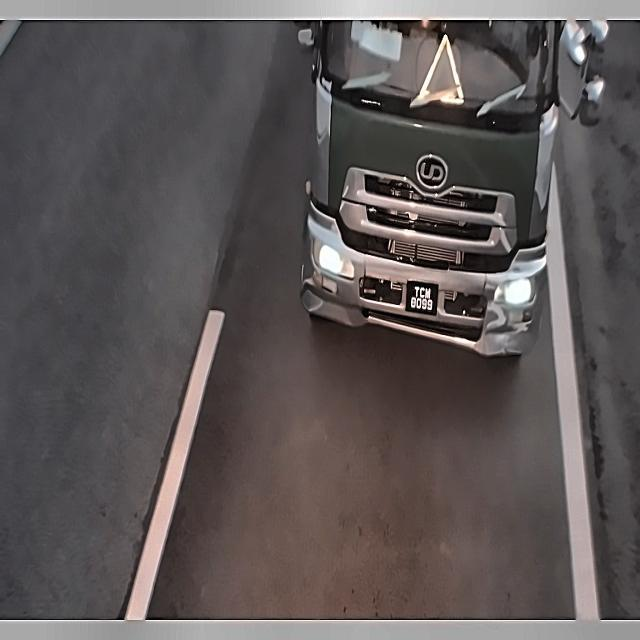car: (404, 275, 444, 322)
